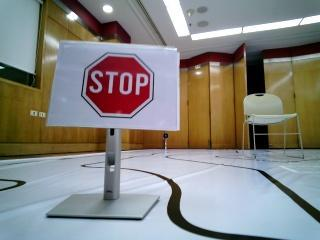stop: (54, 43, 170, 128)
